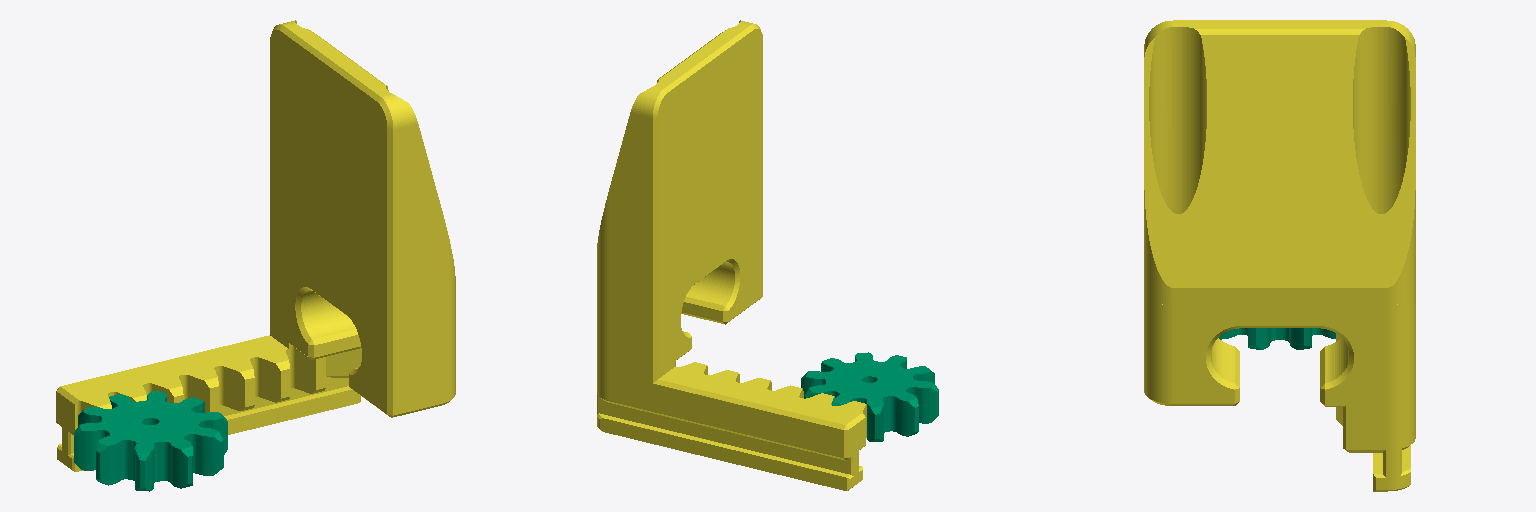
robot.urdf — gripper:
<robot name="gripper">
  
  <link name="base_link" />
<link name="tool_mounting_plate">
    <inertial>
      <origin xyz="-0.080077 0.180021 0.0971925" rpy="0 0 0" />
      <mass value="0.0326621" />
      <inertia ixx="1.37113e-05" ixy="6.31e-10" ixz="-9.5087e-08" iyy="1.4848e-05" iyz="-5.26e-10" izz="1.94271e-05" />
    </inertial>
    
    <visual>
      <origin xyz="-0.080077 0.180021 0.0971925" rpy="0 -0 0" />
      <geometry>
        <mesh filename="package://robot_description/meshes/tool_mounting_plate_visual.stl" />
      </geometry>
      <material name="tool_mounting_plate_parts_material">
        <color rgba="0.5 0.5 0.5 1" />
      </material>
    </visual>
    <collision>
      <origin xyz="-0.080077 0.180021 0.0971925" rpy="0 -0 0" />
      <geometry>
        <mesh filename="package://robot_description/meshes/tool_mounting_plate_collision.stl" />
      </geometry>
    </collision>
  </link>
  
  <link name="gripper_pinion">
    <inertial>
      <origin xyz="0 0 0" rpy="0 0 0" />
      <mass value="1e-09" />
      <inertia ixx="1e-09" ixy="0" ixz="0" iyy="1e-09" iyz="0" izz="1e-09" />
    </inertial>
    
    <visual>
      <origin xyz="0.0791474 0.180024 0.128211" rpy="-3.14159 -0 -0" />
      <geometry>
        <mesh filename="package://robot_description/meshes/gripper_pinion_visual.stl" />
      </geometry>
      <material name="gripper_pinion_parts_material">
        <color rgba="nan nan nan nan" />
      </material>
    </visual>
    <collision>
      <origin xyz="0.0791474 0.180024 0.128211" rpy="-3.14159 -0 -0" />
      <geometry>
        <mesh filename="package://robot_description/meshes/gripper_pinion_collision.stl" />
      </geometry>
    </collision>
  </link>
  
  <joint name="gripper" type="revolute">
    <origin xyz="-0.0791474 0.180024 0.128211" rpy="3.14159 -0 -0" />
    <parent link="tool_mounting_plate" />
    <child link="gripper_pinion" />
    <axis xyz="0 0 1" />
    <limit effort="10" velocity="10" lower="-3.14159" upper="0" />
  </joint>
  
  <joint name="base_link_to_tool_mounting_plate" type="fixed">
    <origin xyz="0 0 0" rpy="0 -0 0" />
    <parent link="base_link" />
    <child link="tool_mounting_plate" />
    <axis xyz="0 0 1" />
    <limit effort="10" velocity="10" />
  </joint>
  
  <link name="gripper_slider">
    <inertial>
      <origin xyz="0 0 0" rpy="0 0 0" />
      <mass value="1e-09" />
      <inertia ixx="1e-09" ixy="0" ixz="0" iyy="1e-09" iyz="0" izz="1e-09" />
    </inertial>
    
    <visual>
      <origin xyz="0 0 0" rpy="0 -0 0" />
      <geometry>
        <mesh filename="package://robot_description/meshes/gripper_slider_visual.stl" />
      </geometry>
      <material name="gripper_slider_parts_material">
        <color rgba="nan nan nan nan" />
      </material>
    </visual>
    <collision>
      <origin xyz="0 0 0" rpy="0 -0 0" />
      <geometry>
        <mesh filename="package://robot_description/meshes/gripper_slider_collision.stl" />
      </geometry>
    </collision>
  </link>
  
  <joint name="base_link_to_gripper_slider" type="fixed">
    <origin xyz="0 0 0" rpy="0 -0 0" />
    <parent link="base_link" />
    <child link="gripper_slider" />
    <axis xyz="0 0 1" />
    <limit effort="10" velocity="10" />
  </joint>
  
  <link name="gripper_slider_2">
    <inertial>
      <origin xyz="0 0 0" rpy="0 0 0" />
      <mass value="1e-09" />
      <inertia ixx="1e-09" ixy="0" ixz="0" iyy="1e-09" iyz="0" izz="1e-09" />
    </inertial>
    
    <visual>
      <origin xyz="0 0 0" rpy="0 -0 0" />
      <geometry>
        <mesh filename="package://robot_description/meshes/gripper_slider_2_visual.stl" />
      </geometry>
      <material name="gripper_slider_2_parts_material">
        <color rgba="nan nan nan nan" />
      </material>
    </visual>
    <collision>
      <origin xyz="0 0 0" rpy="0 -0 0" />
      <geometry>
        <mesh filename="package://robot_description/meshes/gripper_slider_2_collision.stl" />
      </geometry>
    </collision>
  </link>
  
  <joint name="base_link_to_gripper_slider_2" type="fixed">
    <origin xyz="0 0 0" rpy="0 -0 0" />
    <parent link="base_link" />
    <child link="gripper_slider_2" />
    <axis xyz="0 0 1" />
    <limit effort="10" velocity="10" />
  </joint>
</robot>

--- Render facts (derived) ---
3 views of the same robot in one strip: view 1: azimuth 30°, elevation 25°; view 2: azimuth 150°, elevation 25°; view 3: azimuth 270°, elevation 25° (orthographic).
Model gripper with 5 links and 4 joints (1 revolute, 3 fixed), rooted at base_link, posed all joints at 0.
Links seen in each view (by area): view 1: gripper_slider, gripper_pinion; view 2: gripper_slider, gripper_pinion; view 3: gripper_slider, gripper_pinion.
Boxes of the visible links, x1,y1,x2,y2 form: gripper_slider: (56, 20, 455, 471); gripper_pinion: (74, 391, 227, 491); gripper_slider: (597, 20, 866, 490); gripper_pinion: (801, 352, 938, 441); gripper_slider: (1144, 20, 1415, 491); gripper_pinion: (1219, 328, 1335, 349).
Size in the robot's own frame: 0.0422 by 0.028 by 0.0493 metres.
2 mesh visuals loaded from 4 distinct referenced files (2 binary STL); not drawn: 2 (reference not matched to a file when rendering).
